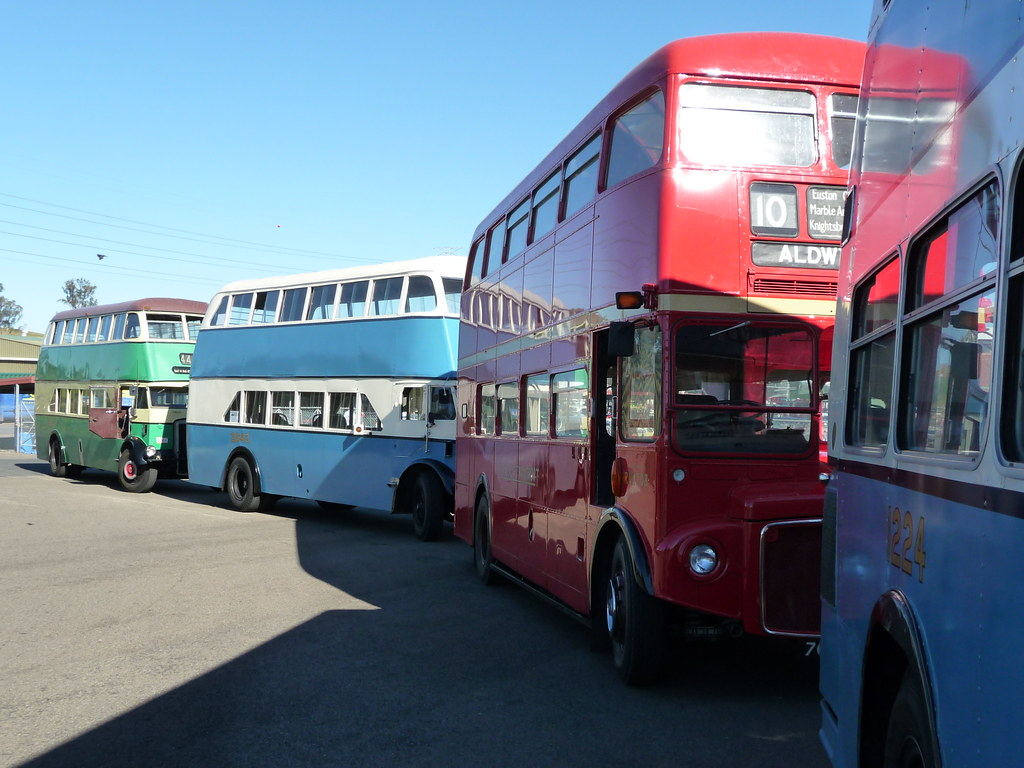bus: (425, 38, 960, 666), (35, 292, 195, 490)
